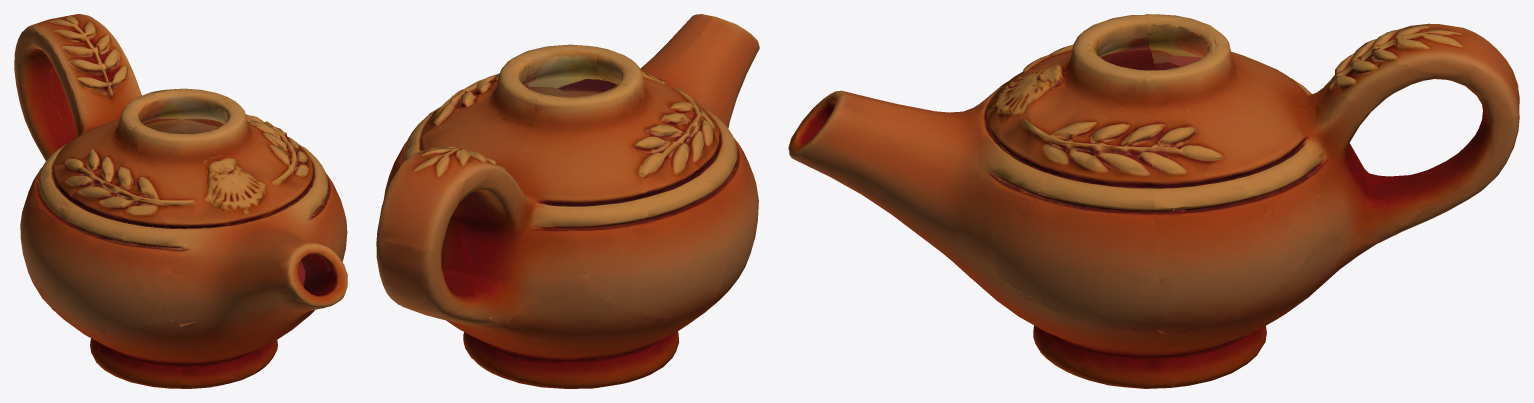
Rendered from 2. oil lamp.glb.
3 views of the same model, side by side, from view 1: azimuth 30°, elevation 25°; view 2: azimuth 150°, elevation 25°; view 3: azimuth 270°, elevation 25° (orthographic). The views are drawn at different scales.
Visible parts, largest first — view 1: tripo_node_5e418635-267a-4c38-b53f-673a43d123ee; view 2: tripo_node_5e418635-267a-4c38-b53f-673a43d123ee; view 3: tripo_node_5e418635-267a-4c38-b53f-673a43d123ee.
Boxes of the visible parts, x1,y1,x2,y2 form: tripo_node_5e418635-267a-4c38-b53f-673a43d123ee: (14, 14, 347, 388); tripo_node_5e418635-267a-4c38-b53f-673a43d123ee: (376, 14, 759, 388); tripo_node_5e418635-267a-4c38-b53f-673a43d123ee: (788, 14, 1519, 388).
Bounding box in the file's own units: 0.5555 × 0.4682 × 1.
Materials: 1 (1 with a texture image).
